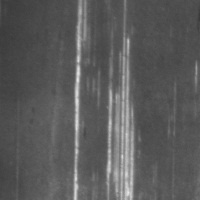scratches: (102, 33, 139, 199), (70, 1, 91, 199)
